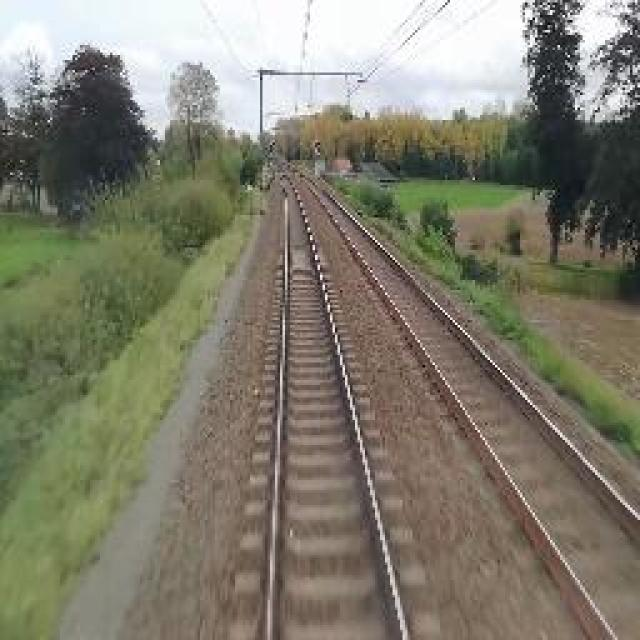rail: (229, 163, 446, 639)
